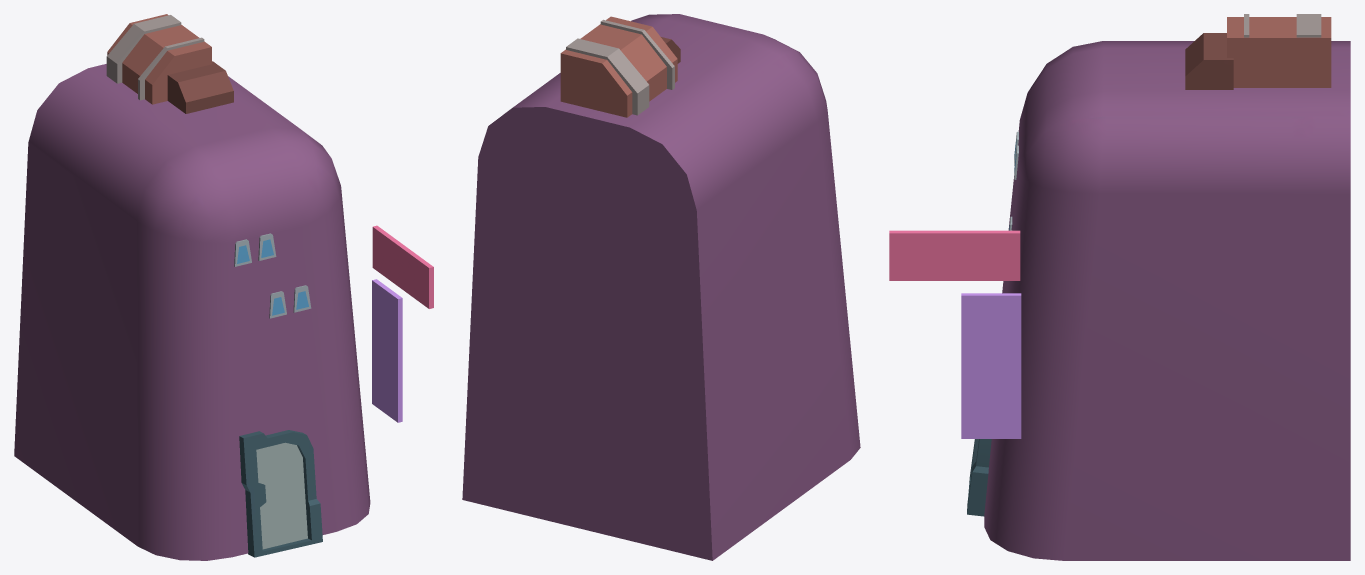
The model's file is SouthEast_House_04.fbx.
3 views of the same model, side by side, from view 1: azimuth 30°, elevation 25°; view 2: azimuth 150°, elevation 25°; view 3: azimuth 270°, elevation 25° (orthographic). The views are drawn at different scales.
Parts seen in each view (by area): view 1: SouthEast_House_04; view 2: SouthEast_House_04; view 3: SouthEast_House_04.
Boxes of the visible parts, left/top/right/bottom form: SouthEast_House_04: left=14, top=14, right=433, bottom=560; SouthEast_House_04: left=462, top=14, right=860, bottom=560; SouthEast_House_04: left=889, top=14, right=1350, bottom=560.
Size of the model in its own units: 14.87 by 26.44 by 22.93.
Materials: 2 (2 with a texture image).
